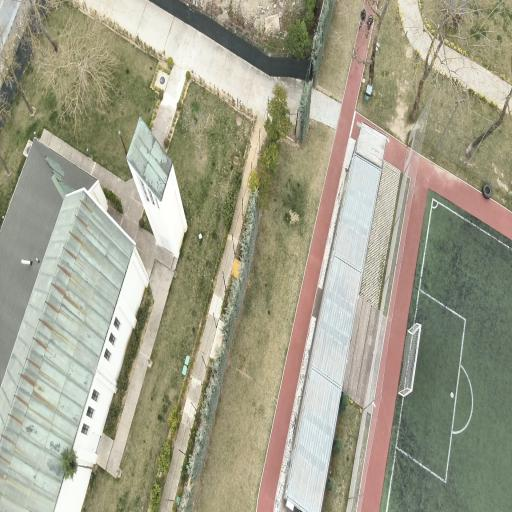person: (367, 16, 373, 37), (360, 9, 366, 28)
